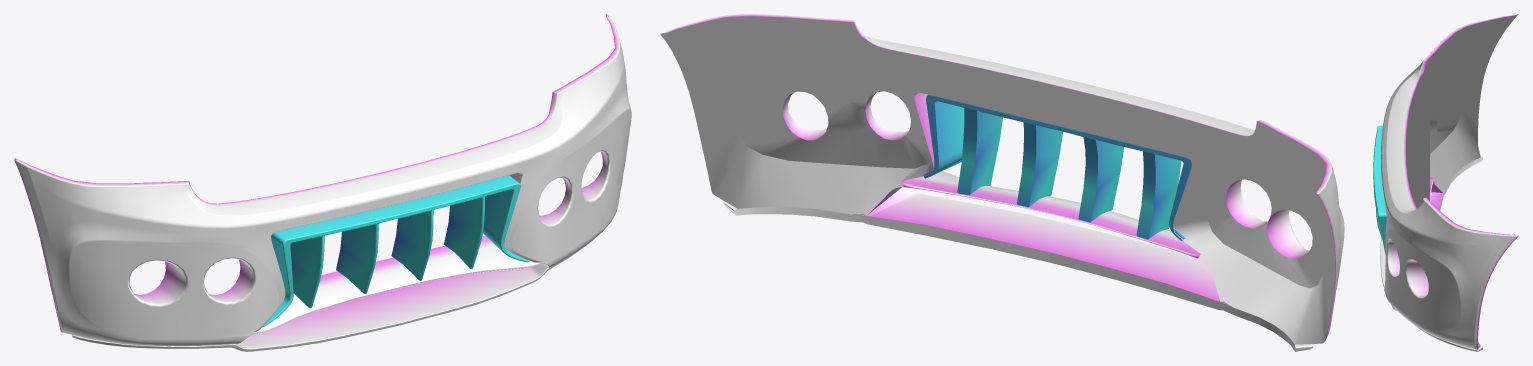
The model's file is Car_Mini_CountrymanJCW_2017_BumperF_SetC_AltD.fbx.
3 renders of one model, left to right at view 1: azimuth 30°, elevation 25°; view 2: azimuth 150°, elevation 25°; view 3: azimuth 270°, elevation 25°, orthographic. The views are drawn at different scales.
Parts seen in each view (by area): view 1: BumperF 6; view 2: BumperF 6; view 3: BumperF 6.
Part boxes in pixels (x1,y1,x2,y2): BumperF 6: (14,14,631,351); BumperF 6: (660,14,1344,351); BumperF 6: (1373,14,1518,351).
Size of the model in its own units: 1.75 by 0.4927 by 0.4835.
